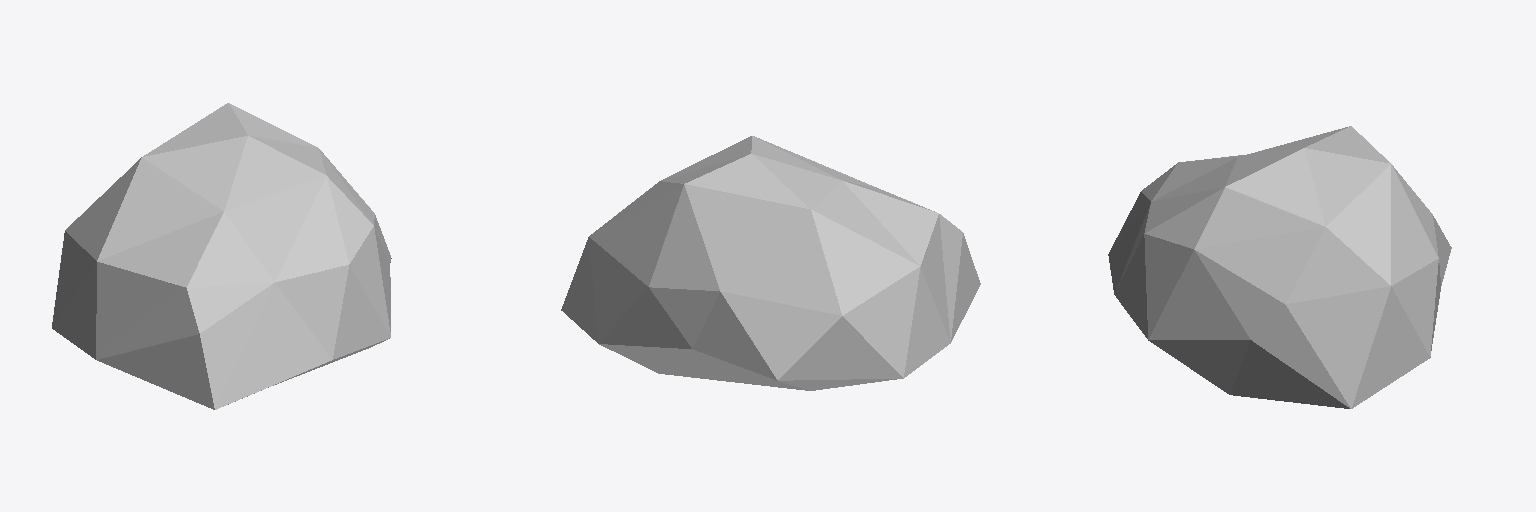
Rendered from stone01.obj.
3 views of the same model, side by side, from view 1: azimuth 30°, elevation 25°; view 2: azimuth 150°, elevation 25°; view 3: azimuth 270°, elevation 25° (orthographic).
Parts seen in each view (by area): view 1: Icosphere; view 2: Icosphere; view 3: Icosphere.
Boxes of the visible parts, box(x1,y1,x2,y2) form: Icosphere: box(52, 103, 391, 409); Icosphere: box(561, 136, 980, 390); Icosphere: box(1108, 126, 1451, 408).
Bounding box in the file's own units: 0.4722 × 0.2907 × 0.4102.